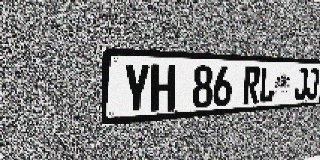6: (213, 66, 233, 107)
8: (192, 65, 214, 108)
H: (150, 64, 176, 112)
J: (294, 68, 308, 100), (306, 68, 319, 99)
L: (259, 67, 275, 103)
R: (243, 67, 261, 104)
Y: (122, 63, 150, 114)
